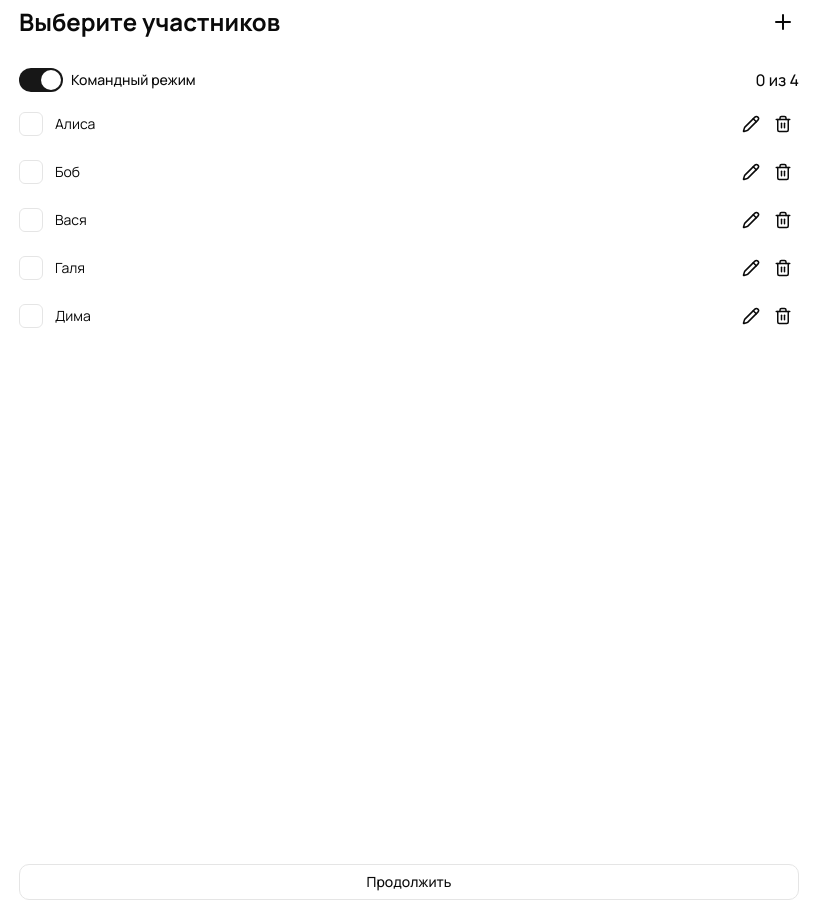
Participants page › updates the counter when players are selected in team mode
Expected: the text "0 из 4" is shown, [756, 68, 799, 92]
Click the checkbox named "Алиса" next to "Алиса" at (31, 124), box [19, 112, 43, 136]
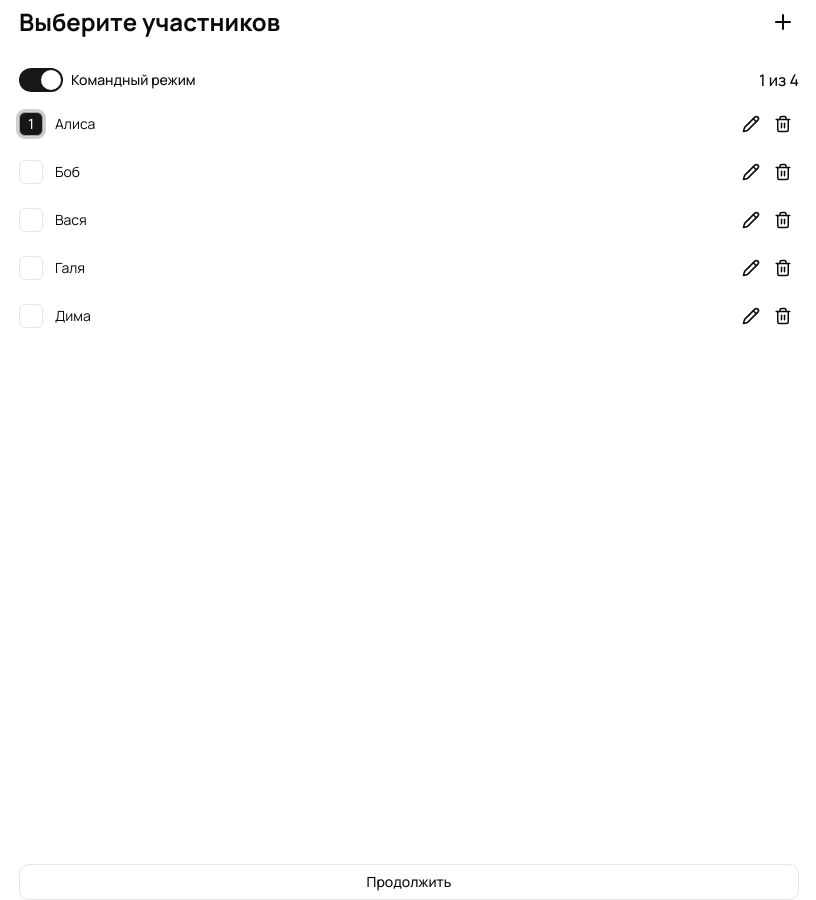
Click the checkbox named "Вася" next to "Вася" at (31, 220), box [19, 208, 43, 232]
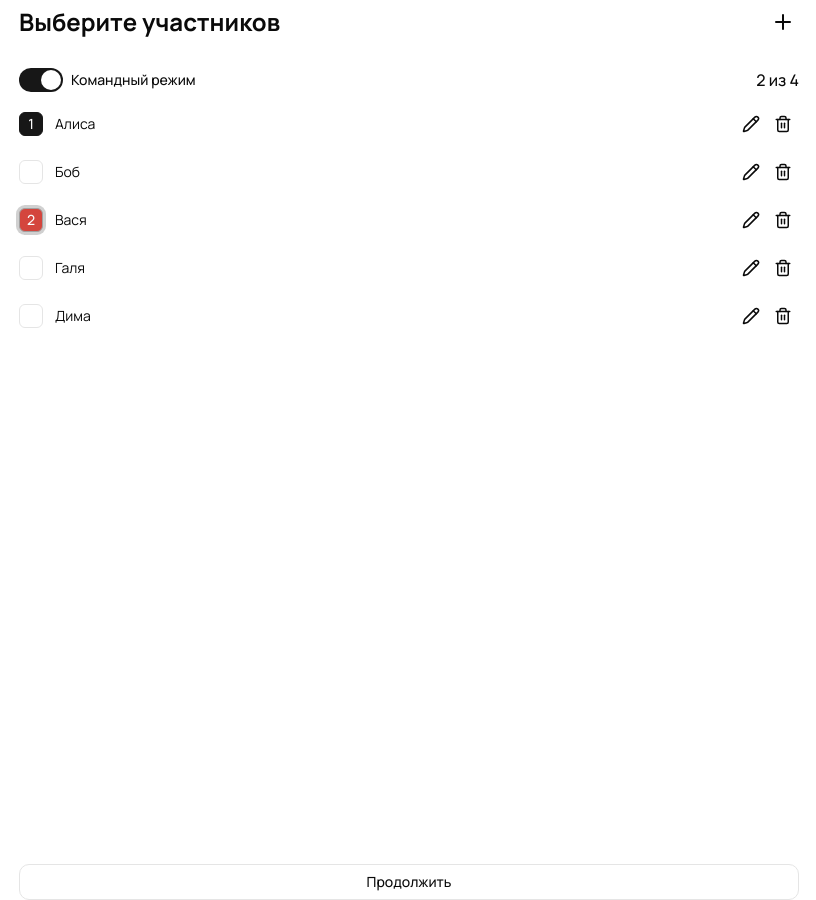
Expected: the checkbox named "Алиса" reads "1", [19, 112, 43, 136]
Expected: the text "2 из 4" is shown, [756, 68, 799, 92]
Expected: the checkbox named "Вася" reads "2", [19, 208, 43, 232]
